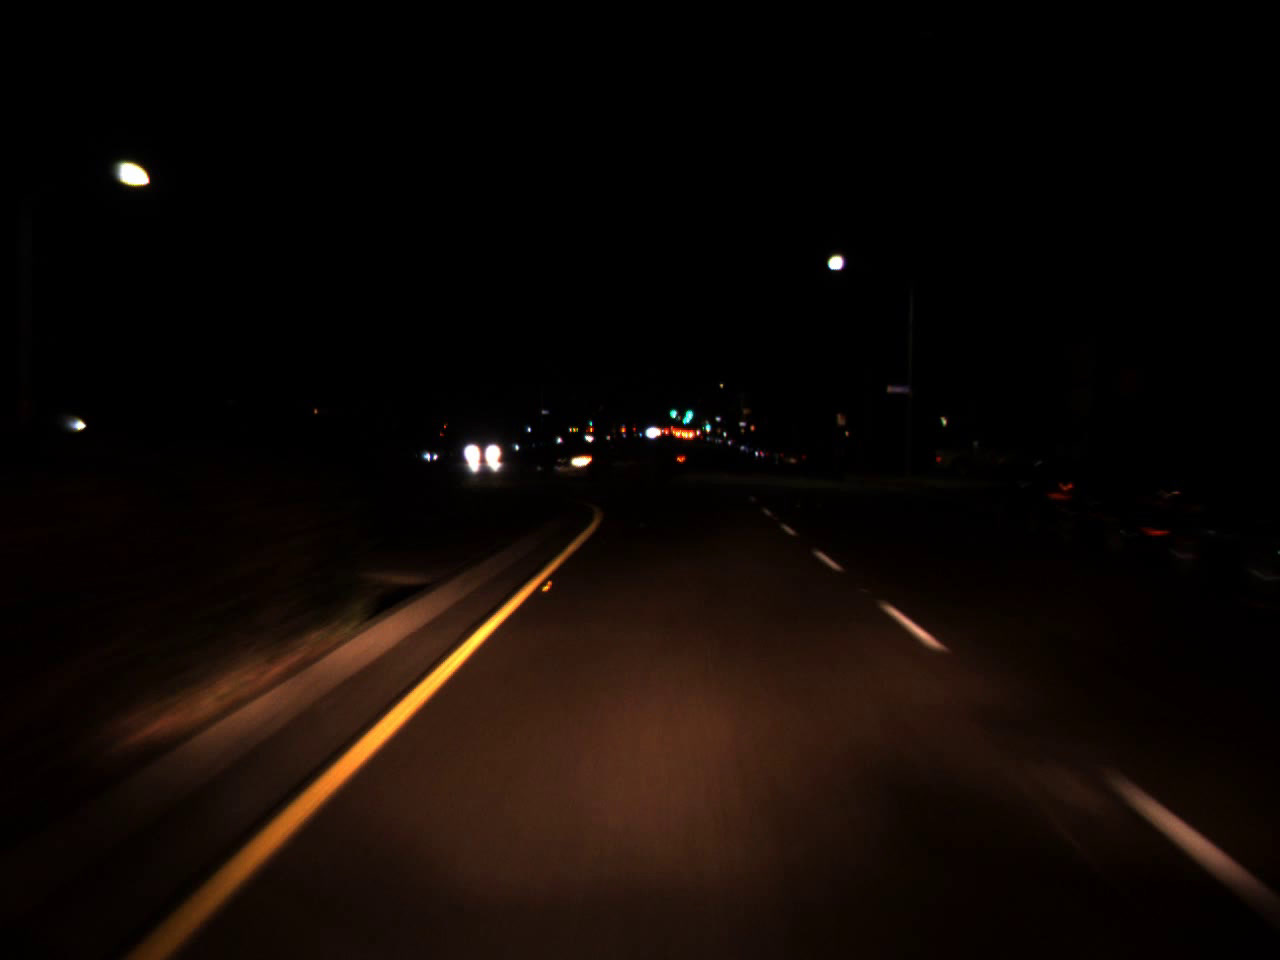go: (680, 398, 694, 425), (667, 400, 677, 421), (703, 417, 711, 432)
